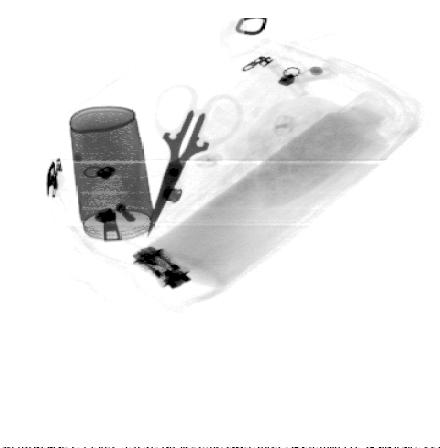Scissors: (144, 81, 248, 237)
